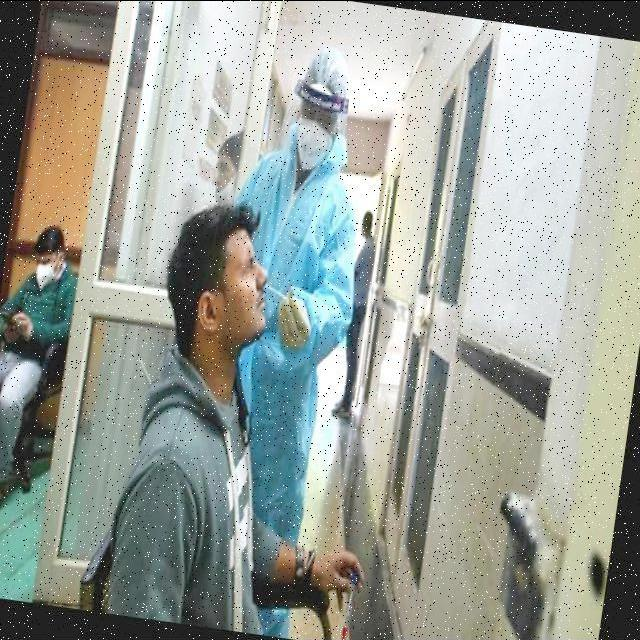apron: (270, 288, 312, 352)
